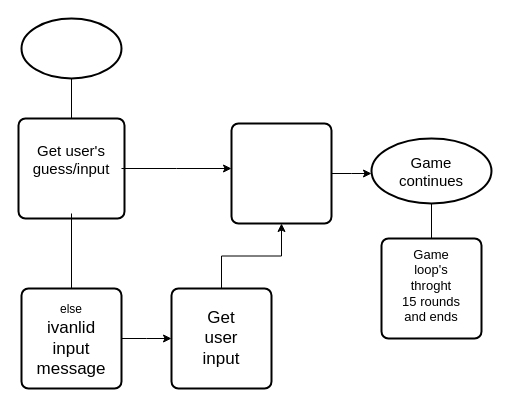
Image size: 509x406. Some labels were removed from this diagram. Each missing label, with the centre of its shape:
If user guess is 1-6: (281,173)
Start: (71,48)
